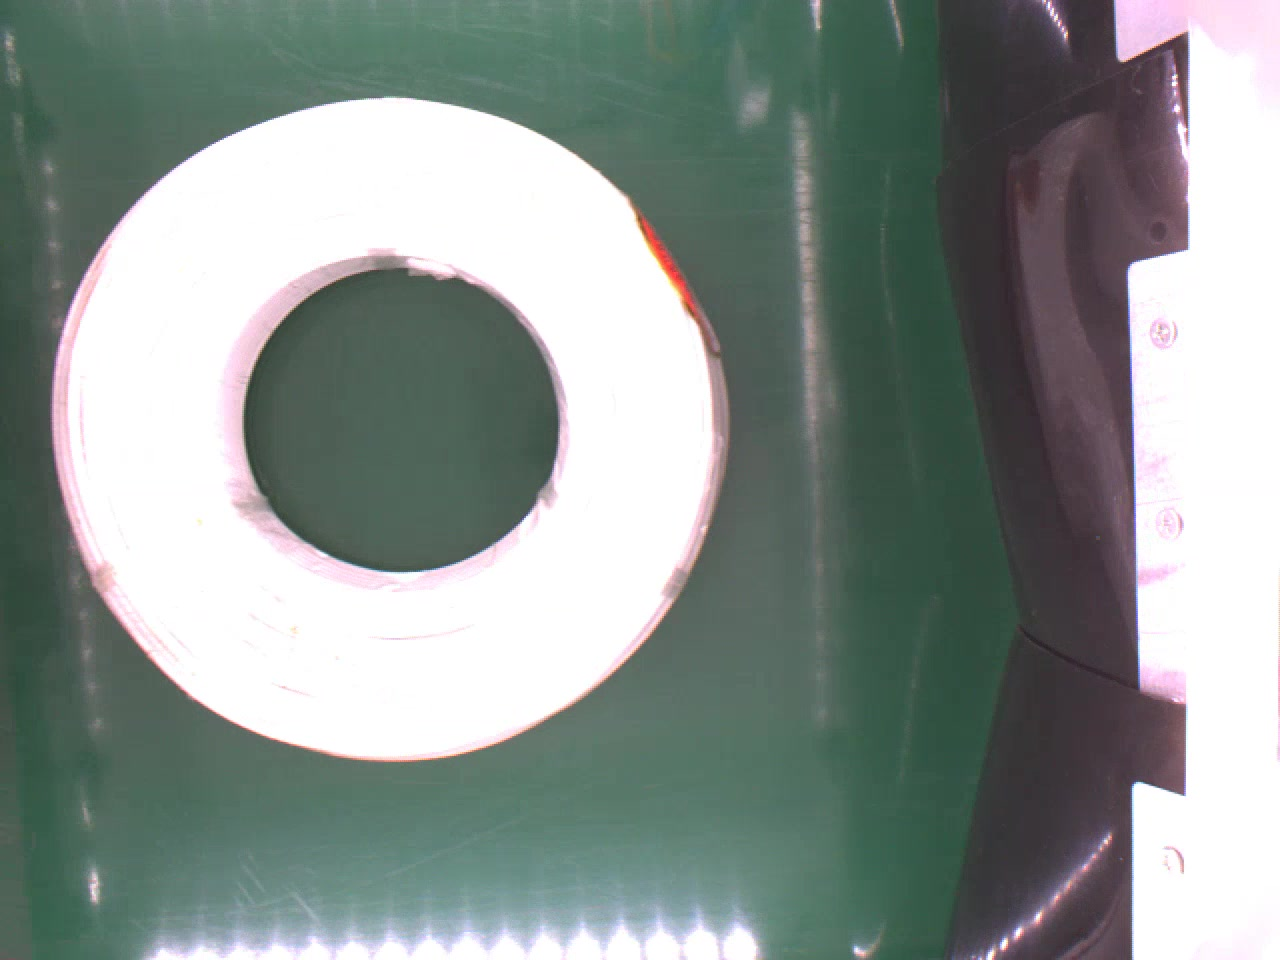white: (42, 88, 733, 763)
